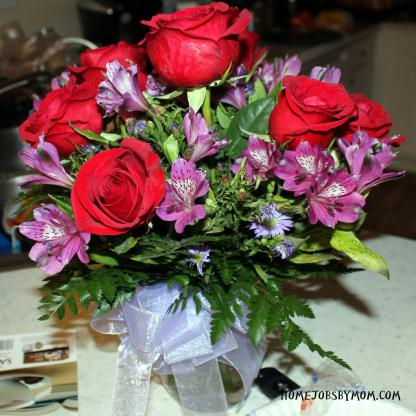vase: (158, 354, 248, 412)
